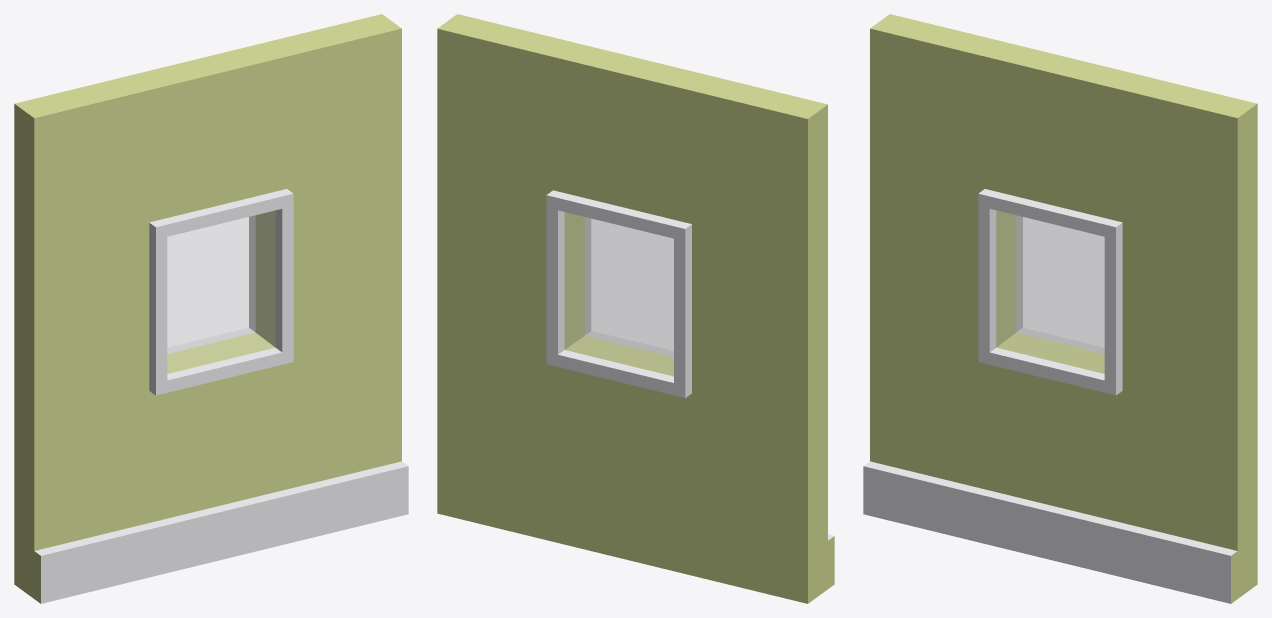
Rendered from WallWindow.glb.
3 views of the same model, side by side, from view 1: azimuth 30°, elevation 25°; view 2: azimuth 150°, elevation 25°; view 3: azimuth 330°, elevation 25° (orthographic).
Visible parts, largest first — view 1: WallWindow; view 2: WallWindow; view 3: WallWindow.
Boxes of the visible parts, x1,y1,x2,y2 form: WallWindow: (14,14,408,603); WallWindow: (437,14,834,603); WallWindow: (863,14,1257,603).
Size of the model in its own units: 32 by 40 by 5.
